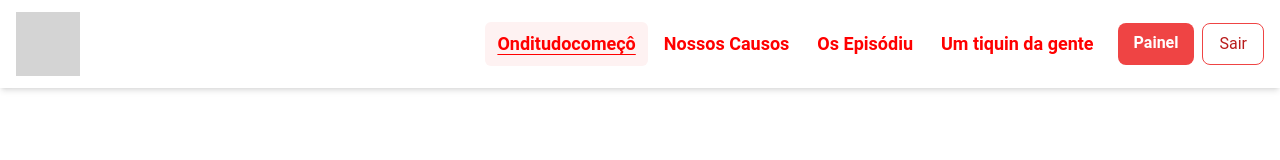
responsive menu and session actions › changes session controls after logout
This screenshot has width=1280, height=160.
Click the button "Sair".
click(1233, 44)  # box 1202,23 -> 1264,65
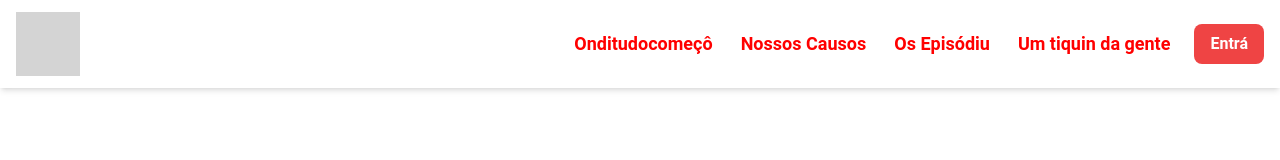
Now the link "Entrá" is shown, box 1194,24 -> 1264,64
Now the link "Painel" is gone
